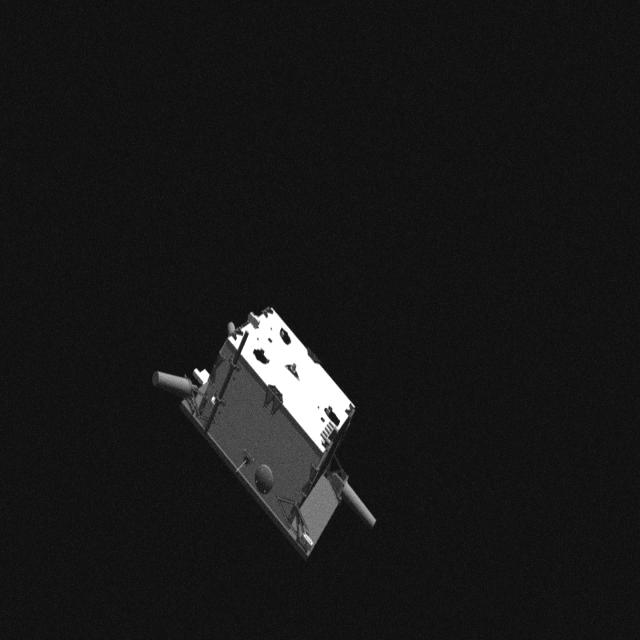satellite: (144, 294, 382, 562)
